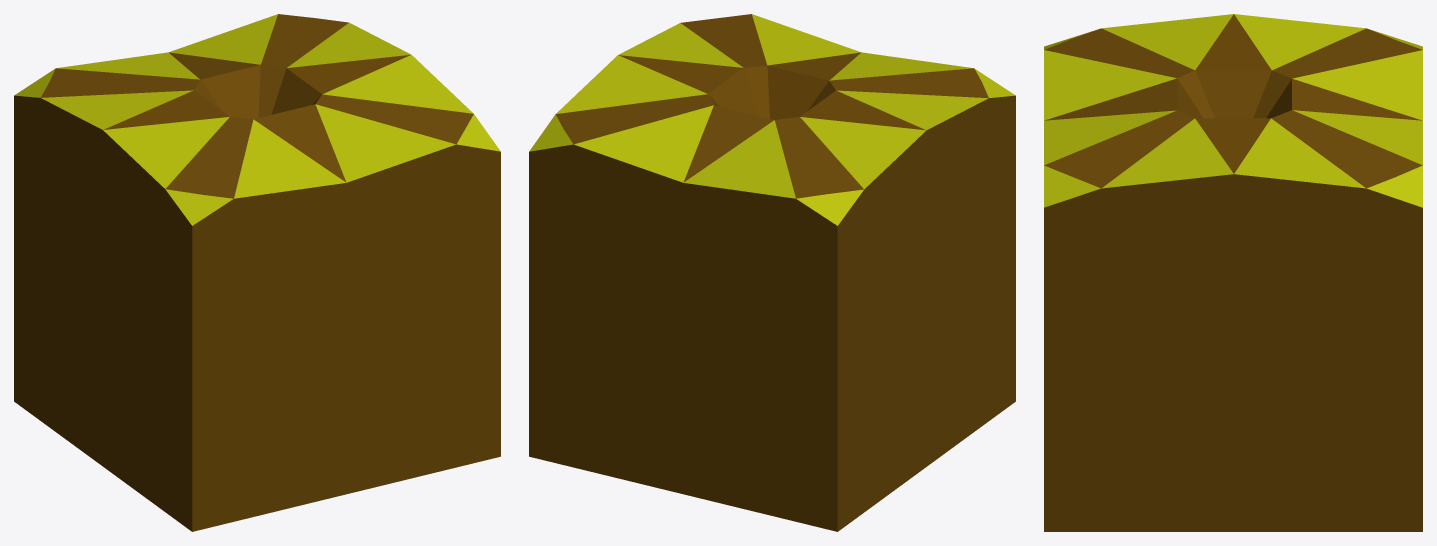
3 views of the same model, side by side, from view 1: azimuth 30°, elevation 25°; view 2: azimuth 150°, elevation 25°; view 3: azimuth 270°, elevation 25° (orthographic). The views are drawn at different scales.
Parts seen in each view (by area): view 1: Cube; view 2: Cube; view 3: Cube.
Boxes of the visible parts, <box> form: Cube: <box>14,14,500,531</box>; Cube: <box>529,14,1015,531</box>; Cube: <box>1044,14,1422,531</box>.
Bounding box in the file's own units: 100 × 104 × 100.
